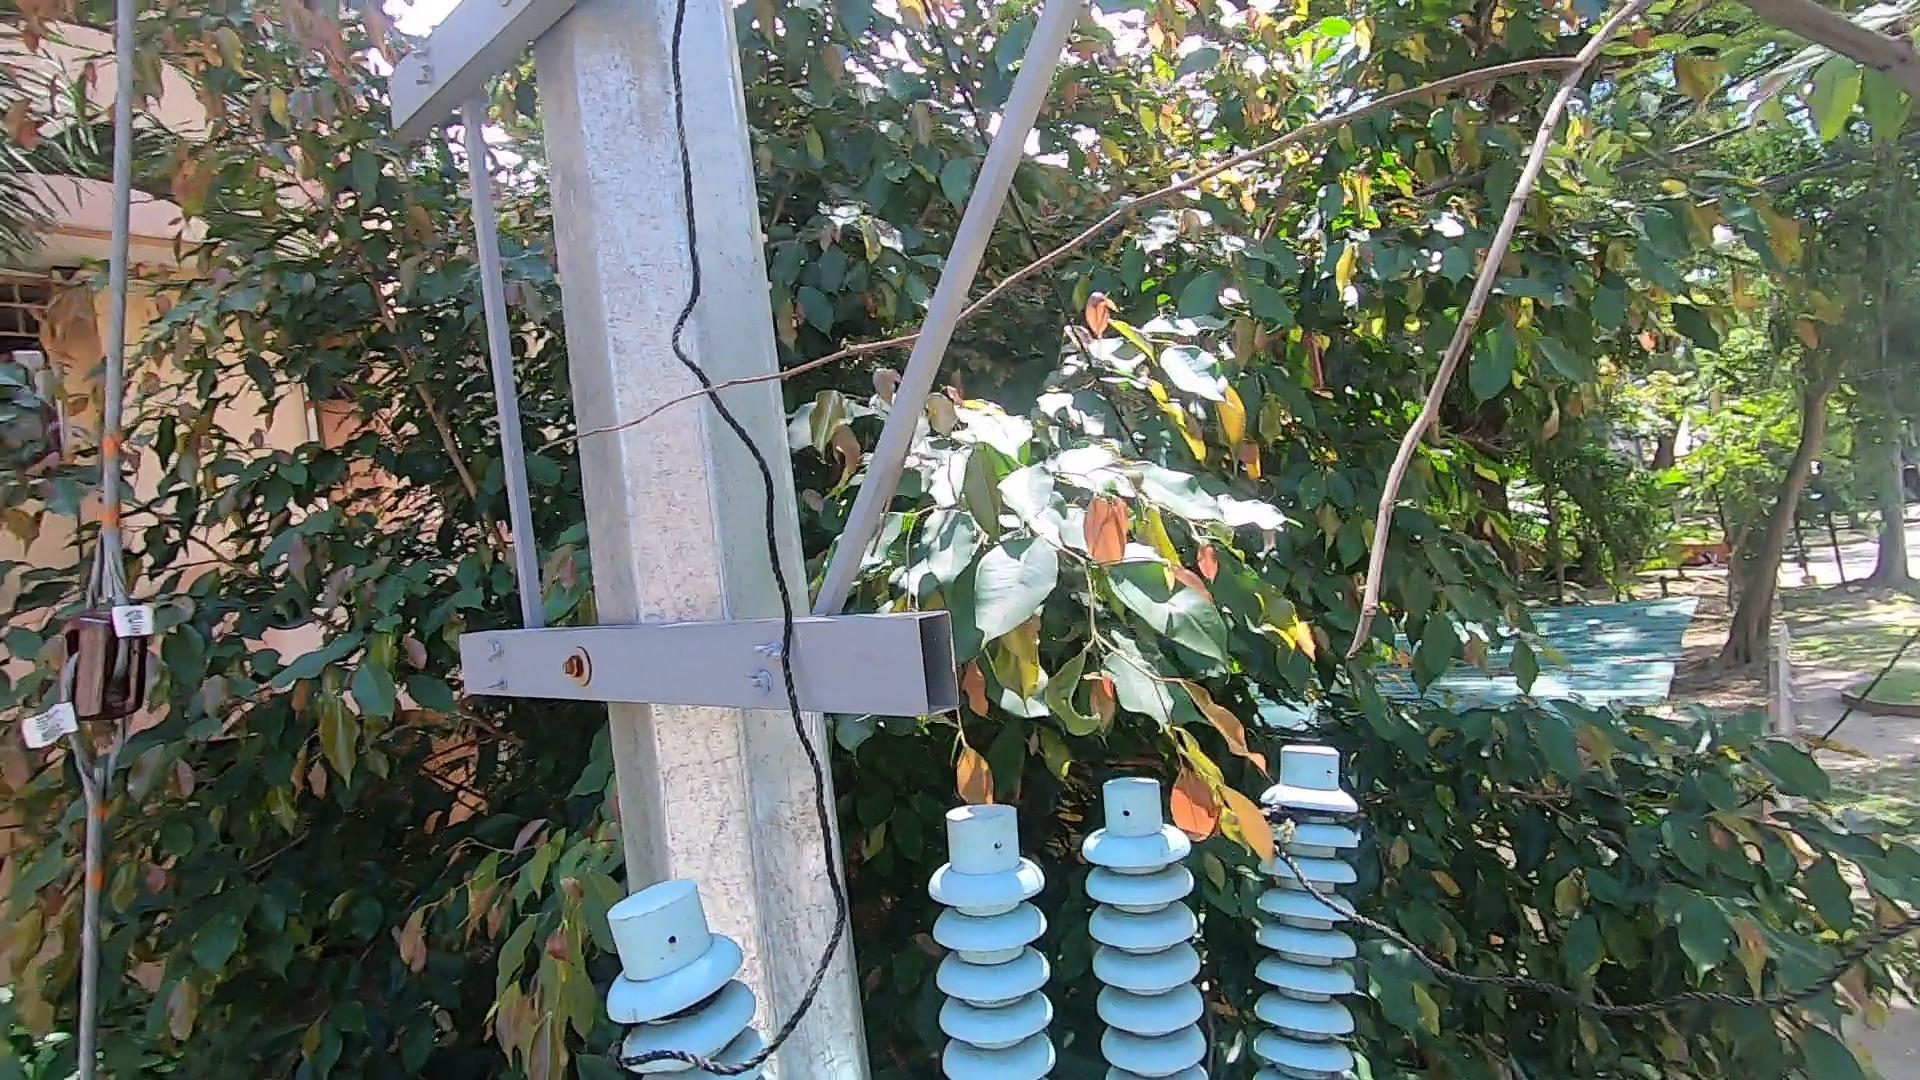branch with leaves: (1158, 724, 1294, 911)
tree branch: (451, 293, 1514, 649)
